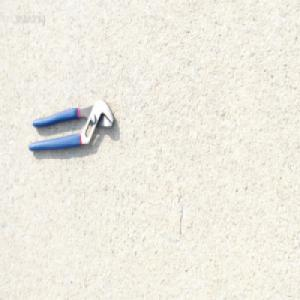Pliers: (27, 98, 115, 153)
